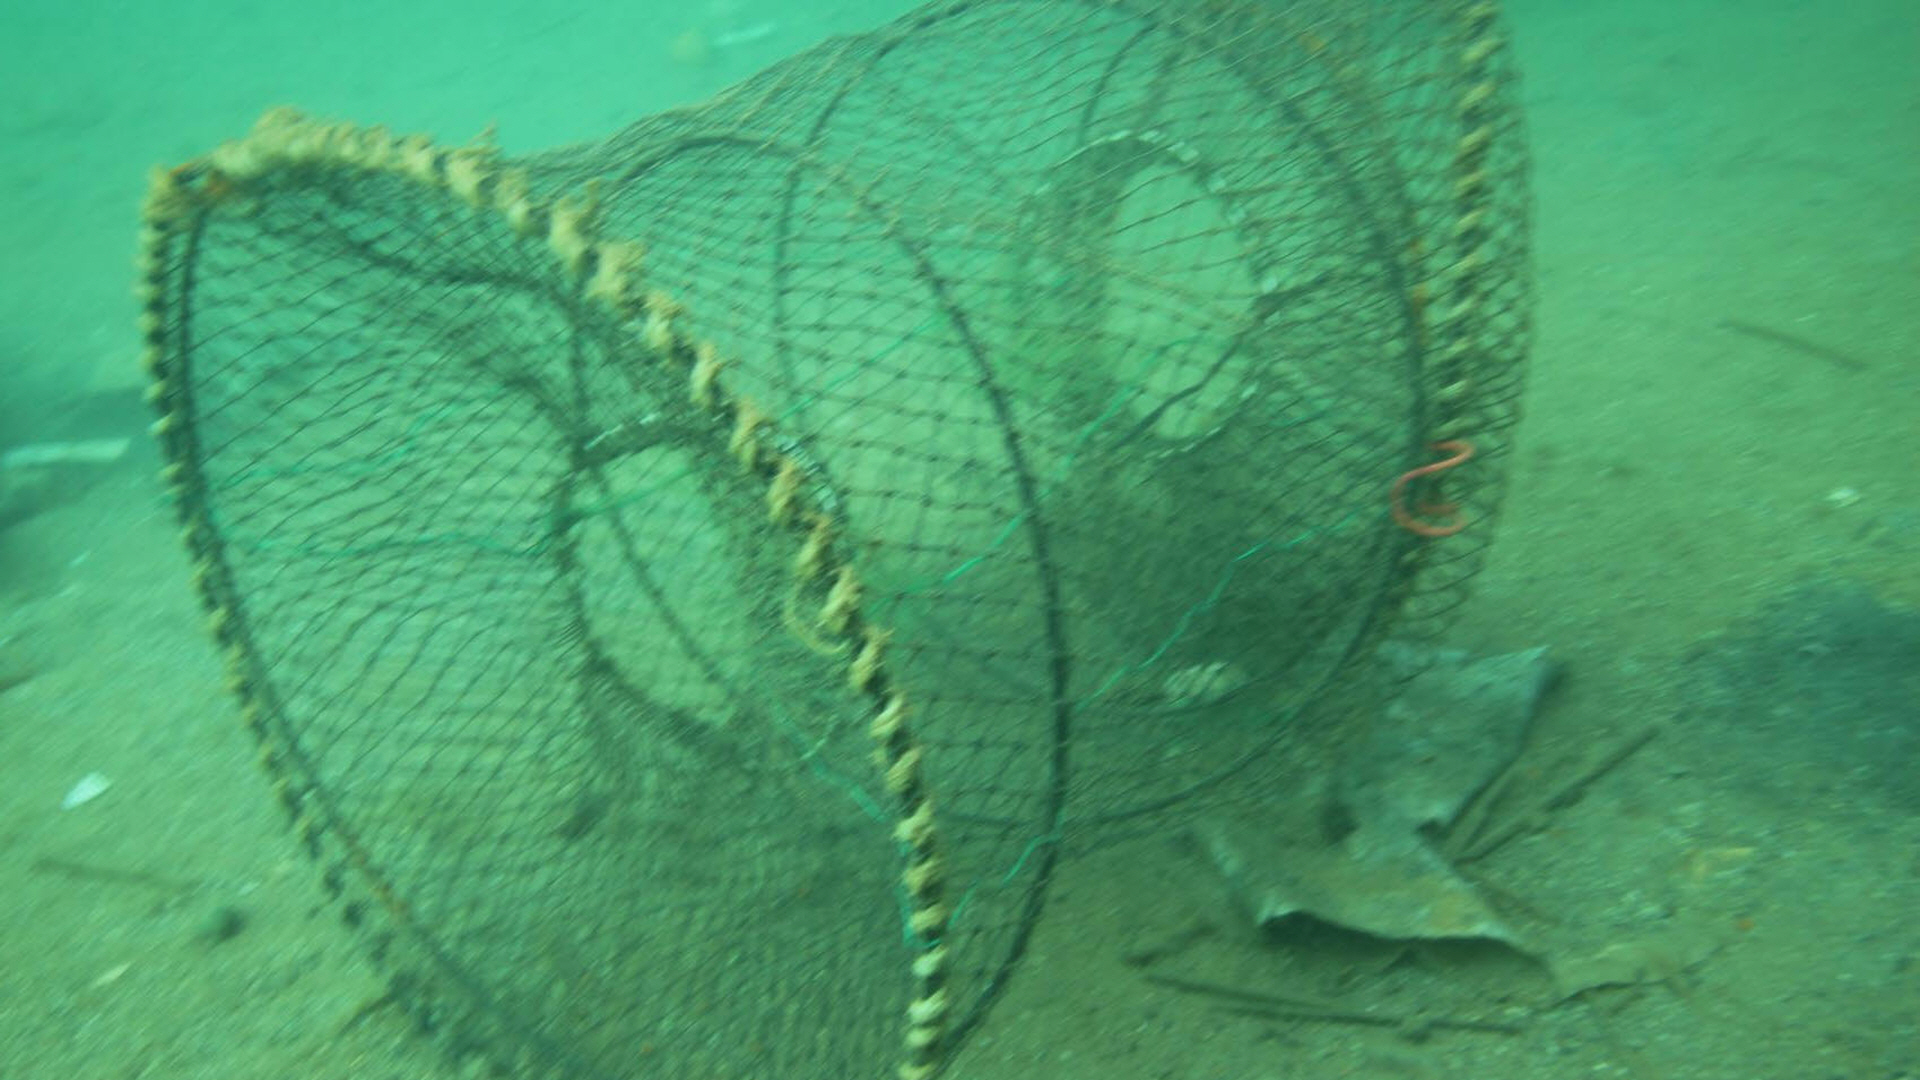spring fish trap: (138, 0, 1538, 1080)
